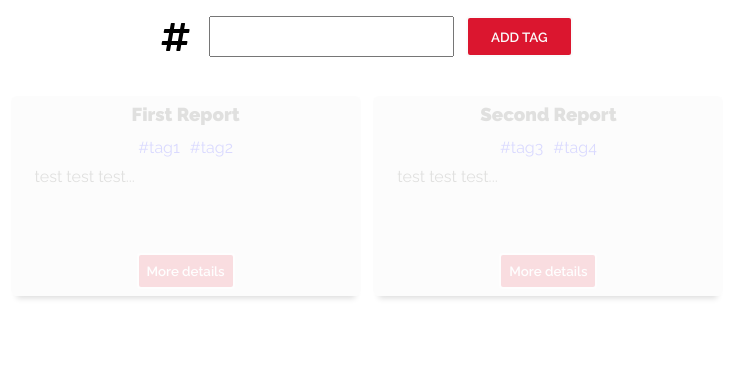
Test case: Search Reports › Should filter out the displayed search items by tag
This screenshot has width=735, height=367.
expect the heading "First Report" is shown: met, box [132,103,240,125]
expect the heading "Second Report" is shown: met, box [480,103,616,125]
put in a search tag
In the field: {"x": 332, "y": 37} [209,16,454,57], type "tag1"
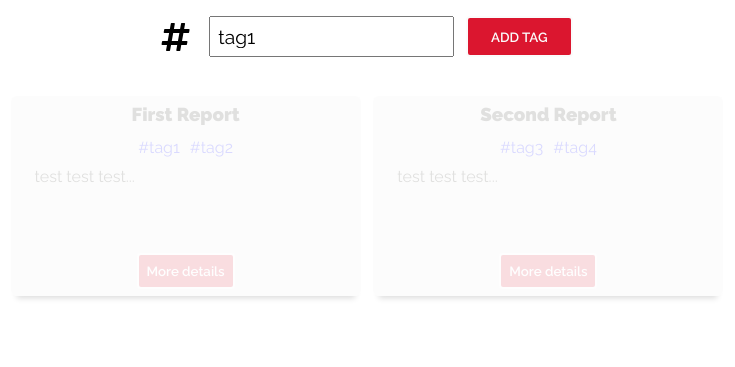
Click the button "ADD TAG": {"x": 519, "y": 37} [466,16,573,57]
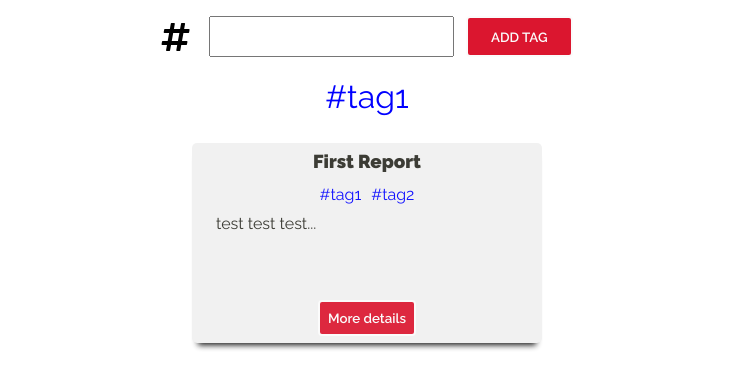
expect the heading "First Report" is shown: met, box [313,150,421,172]
expect the heading "Second Report" is gone: met
